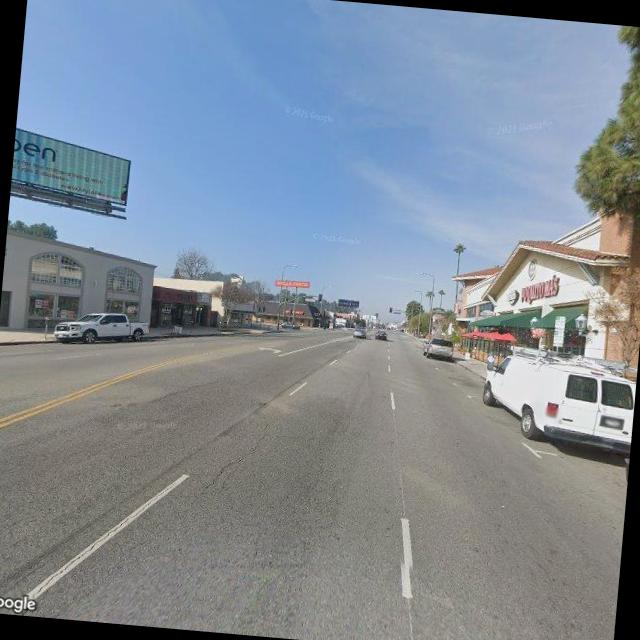pothole: (198, 419, 270, 496)
